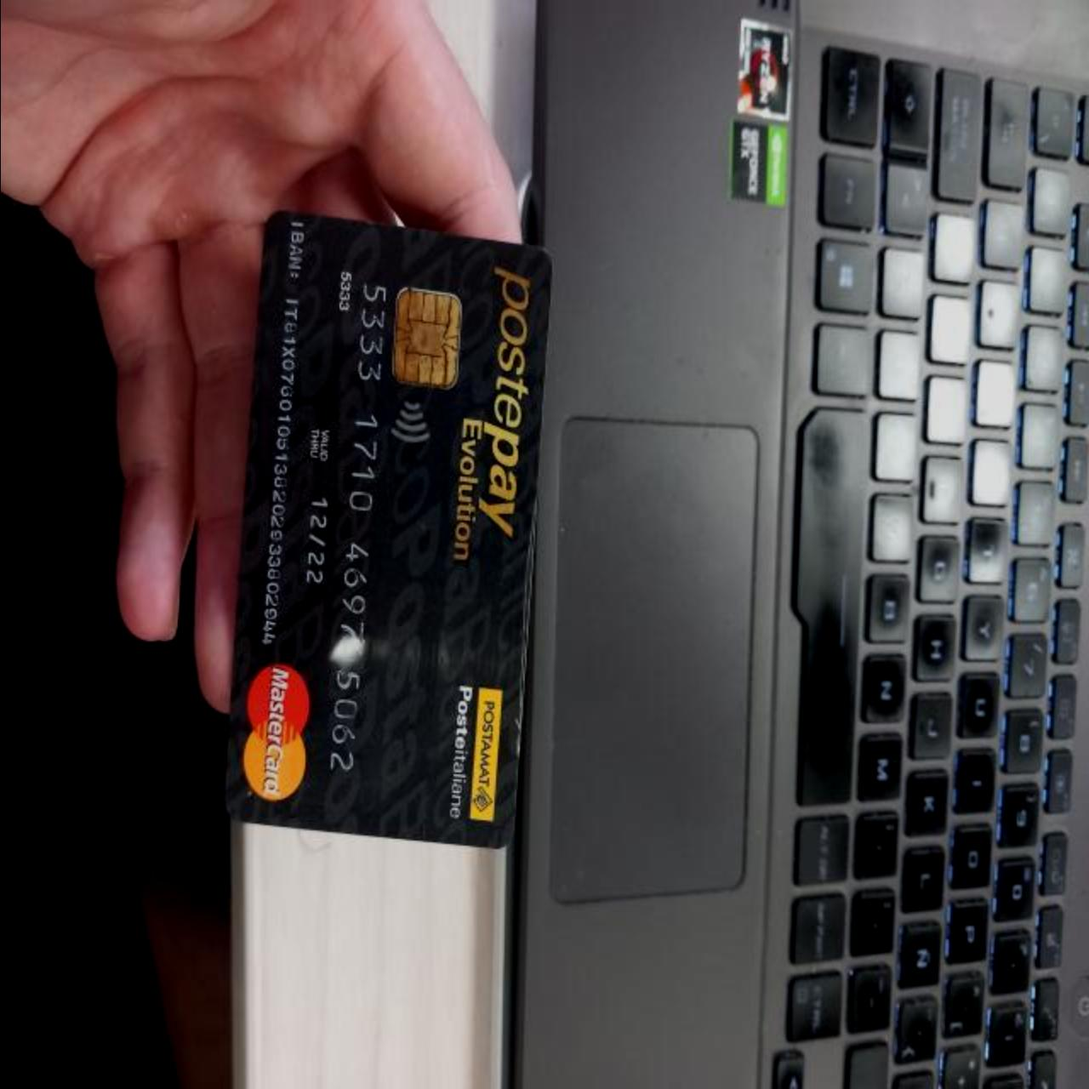credit_card: (218, 204, 551, 858)
